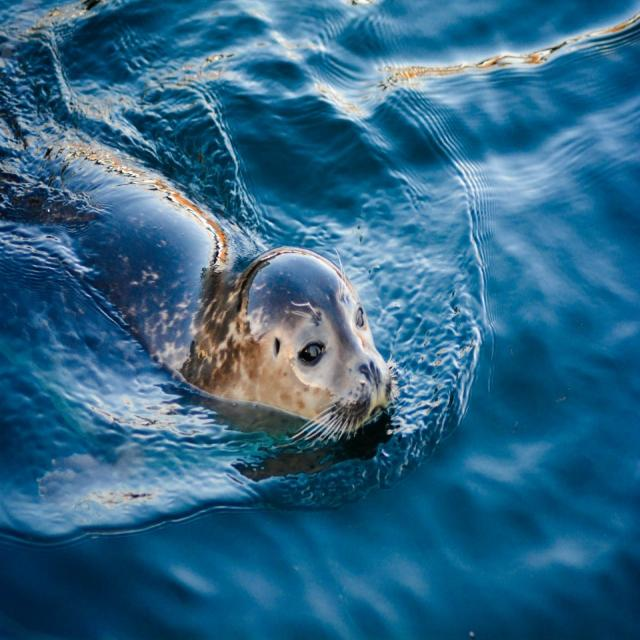Seal: (0, 117, 421, 454)
